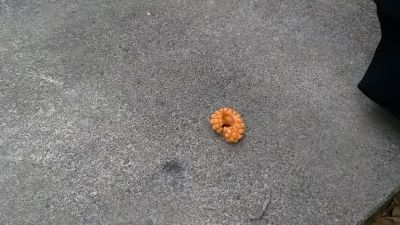eggs: (208, 105, 246, 145)
